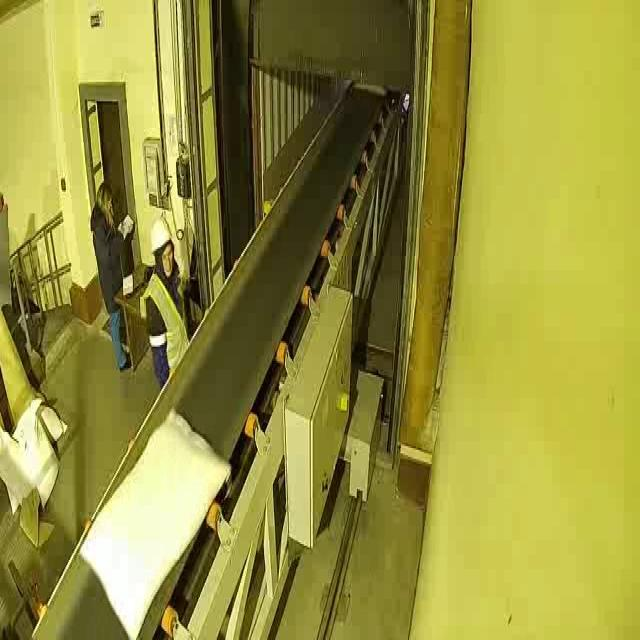bag: (77, 402, 232, 634), (352, 84, 387, 93)
